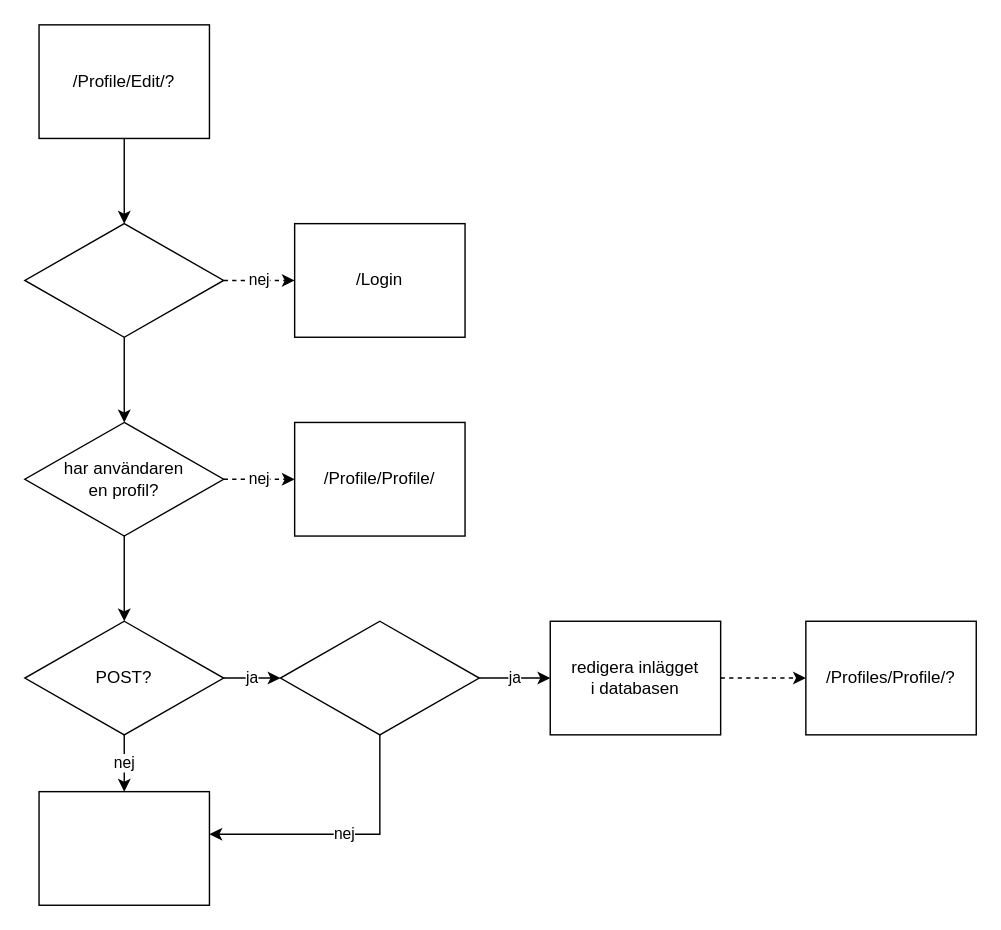
Some shapes in this 1001 by 930 pixel diagram are drawn without their labels. Each missing label, with the centre of its shape:
"redigerings formet validerar?" belongs at [379,677].
"Visa formet för att redigera profilen" belongs at [123,847].
"är användaren inloggad?" belongs at [123,279].
